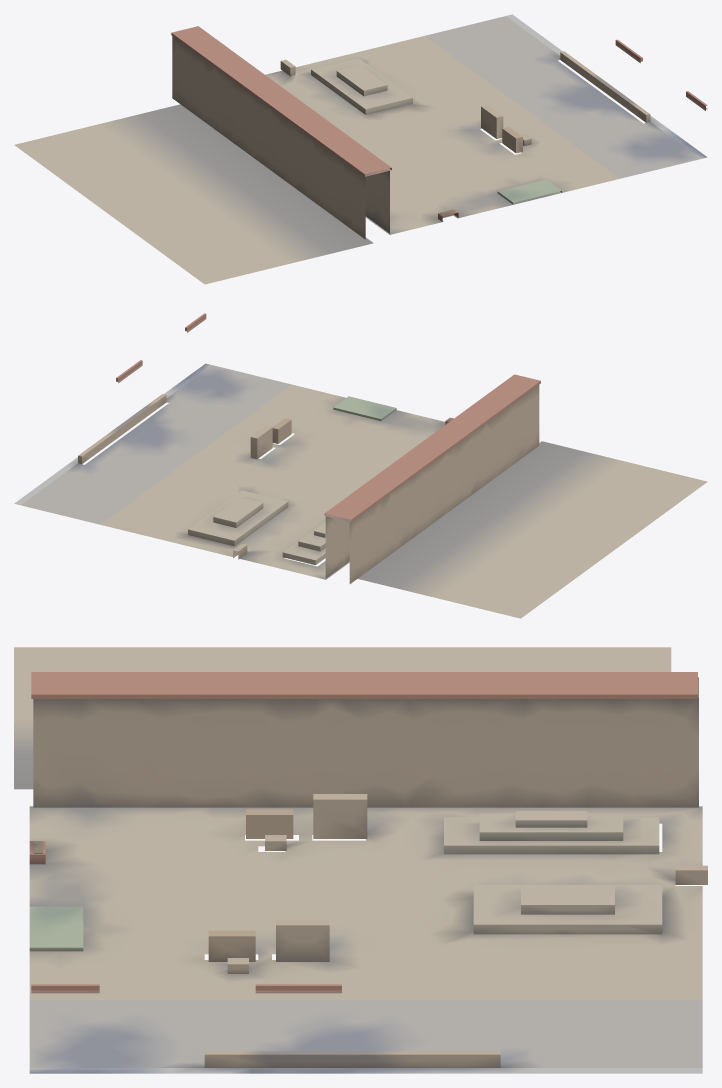
The picture shows the model from 3 angles, top to bottom: view 1: azimuth 30°, elevation 25°; view 2: azimuth 150°, elevation 25°; view 3: azimuth 270°, elevation 25°; orthographic projection. The views are drawn at different scales.
Visible parts, largest first — view 1: t; view 2: t; view 3: t.
Boxes of the visible parts, x1,y1,x2,y2 form: t: (14,14,707,284); t: (14,313,707,618); t: (14,647,707,1073).
Size of the model in its own units: 75.1 by 9.35 by 51.56.
